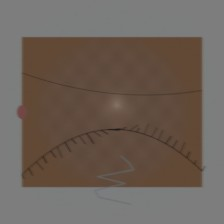foreign_body_visible: (72, 65, 116, 100)
